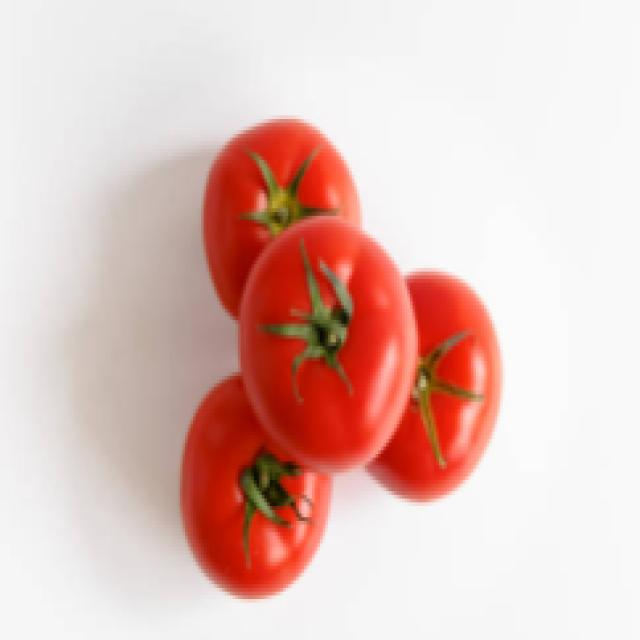Tomato: (237, 231, 412, 463)
